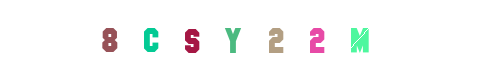2: (216, 0, 296, 80), (272, 0, 352, 80)
8: (110, 0, 190, 80)
C: (110, 0, 190, 80)
M: (301, 0, 381, 80)
S: (193, 0, 273, 80)
Y: (207, 0, 287, 80)
